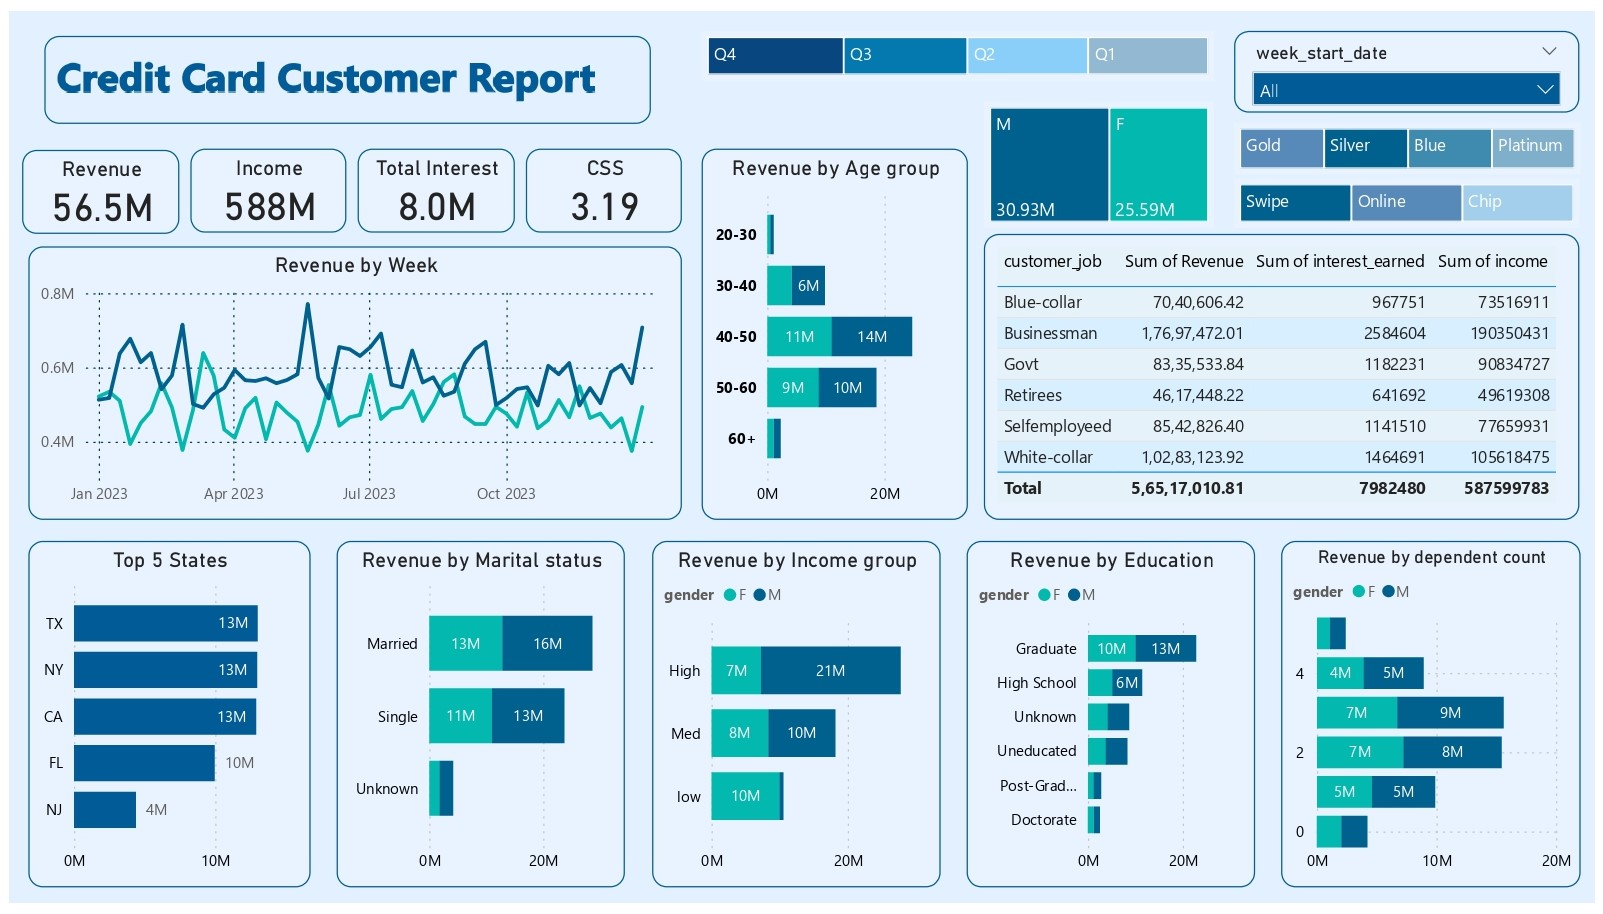

This screenshot's page, from the dashboard's own definition file:
{"tool":"powerbi","page":{"name":"Customer Weekly Report","canvas":[1280,720],"ordinal":1},"visuals":[{"type":"textbox","box":[28,20.2,489.5,70.6],"z":0},{"type":"barChart","title":" Revenue by Income group","fields":{"Category":["public cust_details.IncomeGroup"],"Y":["Sum(public cc_details.Revenue)"],"Series":["public cust_details.gender"]},"box":[518.6,427.9,233,280],"z":1000},{"type":"tableEx","fields":{"Values":["public cust_details.customer_job","Sum(public cc_details.Revenue)","Sum(public cc_details.interest_earned)","Sum(public cust_details.income)"]},"box":[787.5,180.3,480.5,230.7],"z":2000},{"type":"card","title":"Revenue","fields":{"Values":["Sum(public cc_details.Revenue)"]},"box":[10.1,112,126.6,68.3],"z":3000},{"type":"card","title":"Income","fields":{"Values":["Sum(public cust_details.income)"]},"box":[145.6,110.9,126.6,68.3],"z":4000},{"type":"card","title":"Total Interest","fields":{"Values":["Sum(public cc_details.interest_earned)"]},"box":[281.2,110.9,126.6,68.3],"z":5000},{"type":"card","title":"CSS","fields":{"Values":["Avg(public cust_details.cust_satisfaction_score)"]},"box":[416.7,110.9,126.6,68.3],"z":6000},{"type":"slicer","fields":{"Values":["public cc_details.week_start_date"]},"box":[989.1,15.7,278.9,66.1],"z":7000},{"type":"treemap","fields":{"Group":["public cc_details.qtr"],"Values":["Avg(public cc_details.client_num)"]},"box":[558.9,15.7,414.5,40.3],"z":8000},{"type":"treemap","fields":{"Group":["public cc_details.card_category"],"Values":["Avg(public cc_details.client_num)"]},"box":[989.1,89.6,280,42.6],"z":10000},{"type":"lineChart","title":"Revenue by Week","fields":{"Y":["Sum(public cc_details.Revenue)"],"Series":["public cust_details.gender"],"Category":["public cc_details.week_start_date.Variation.Date Hierarchy.Year","public cc_details.week_start_date.Variation.Date Hierarchy.Month","public cc_details.week_start_date.Variation.Date Hierarchy.Day"]},"box":[14.6,190.4,528.7,220.7],"z":12000},{"type":"treemap","fields":{"Group":["public cust_details.gender"],"Values":["Sum(public cc_details.Revenue)"]},"box":[787.5,72.8,185.9,101.9],"z":12001},{"type":"barChart","title":" Revenue by Age group","fields":{"Y":["Sum(public cc_details.Revenue)"],"Category":["public cust_details.AgeGroup"],"Series":["public cust_details.gender"]},"box":[558.9,110.9,215.1,300.2],"z":12003},{"type":"barChart","title":" Revenue by dependent count","fields":{"Y":["Sum(public cc_details.Revenue)"],"Category":["public cust_details.dependent_count"],"Series":["public cust_details.gender"]},"box":[1027.2,427.9,241.9,280],"z":12004},{"type":"barChart","title":" Revenue by Education","fields":{"Y":["Sum(public cc_details.Revenue)"],"Category":["public cust_details.education_level"],"Series":["public cust_details.gender"]},"box":[772.9,427.9,233,280],"z":12005},{"type":"barChart","title":" Top 5 States","fields":{"Y":["Sum(public cc_details.Revenue)"],"Category":["public cust_details.state_cd"]},"box":[14.6,427.9,228.5,280],"z":12006},{"type":"barChart","title":" Revenue by Marital status","fields":{"Y":["Sum(public cc_details.Revenue)"],"Category":["public cust_details.marital_status"],"Series":["public cust_details.gender"]},"box":[264.4,427.9,233,280],"z":12007},{"type":"treemap","fields":{"Group":["public cc_details.use_chip"],"Values":["Avg(public cc_details.client_num)"]},"box":[989,135.4,279,39.2],"z":12008}]}

Visuals, with their boxes in screenshot pixels (x1, y1, x2, y2), scaled from the page's 1280x720 canvas onto the 1603x914 screenshot:
textbox: box(35, 26, 648, 115)
" Revenue by Income group" barChart: box(649, 543, 941, 899)
tableEx - public cust_details.customer_job x Sum(public cc_details.Revenue): box(986, 229, 1588, 522)
"Revenue" card: box(13, 142, 171, 229)
"Income" card: box(182, 141, 341, 227)
"Total Interest" card: box(352, 141, 511, 227)
"CSS" card: box(522, 141, 680, 227)
slicer - public cc_details.week_start_date: box(1239, 20, 1588, 104)
treemap - public cc_details.qtr x Avg(public cc_details.client_num): box(700, 20, 1219, 71)
treemap - public cc_details.card_category x Avg(public cc_details.client_num): box(1239, 114, 1589, 168)
"Revenue by Week" lineChart: box(18, 242, 680, 522)
treemap - public cust_details.gender x Sum(public cc_details.Revenue): box(986, 92, 1219, 222)
" Revenue by Age group" barChart: box(700, 141, 969, 522)
" Revenue by dependent count" barChart: box(1286, 543, 1589, 899)
" Revenue by Education" barChart: box(968, 543, 1260, 899)
" Top 5 States" barChart: box(18, 543, 304, 899)
" Revenue by Marital status" barChart: box(331, 543, 623, 899)
treemap - public cc_details.use_chip x Avg(public cc_details.client_num): box(1239, 172, 1588, 222)
